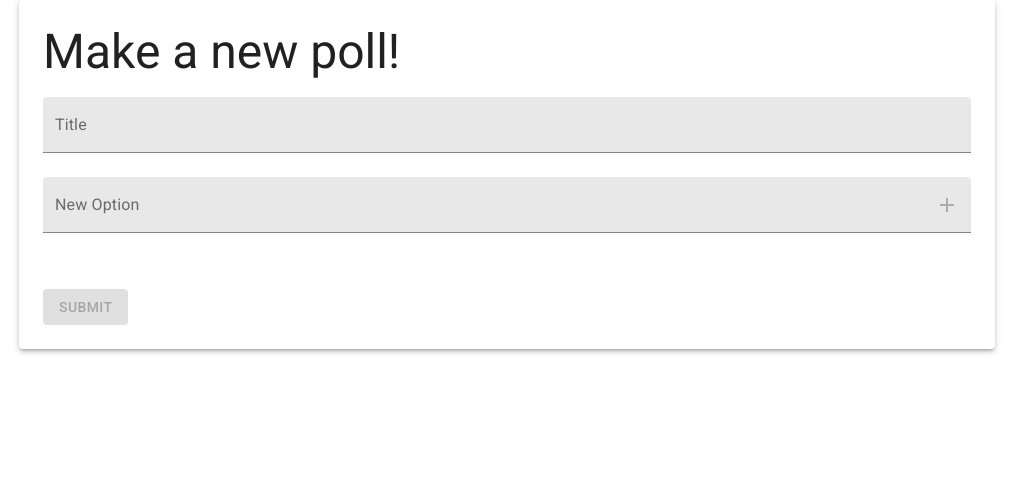
Test case: NewPoll tests › If option is present › Failed post submission results in failure alert
The image size is (1015, 483).
Type "test" into the field labelled "Title".
click(507, 125); type("test")  # box x1=43 y1=97 x2=971 y2=153
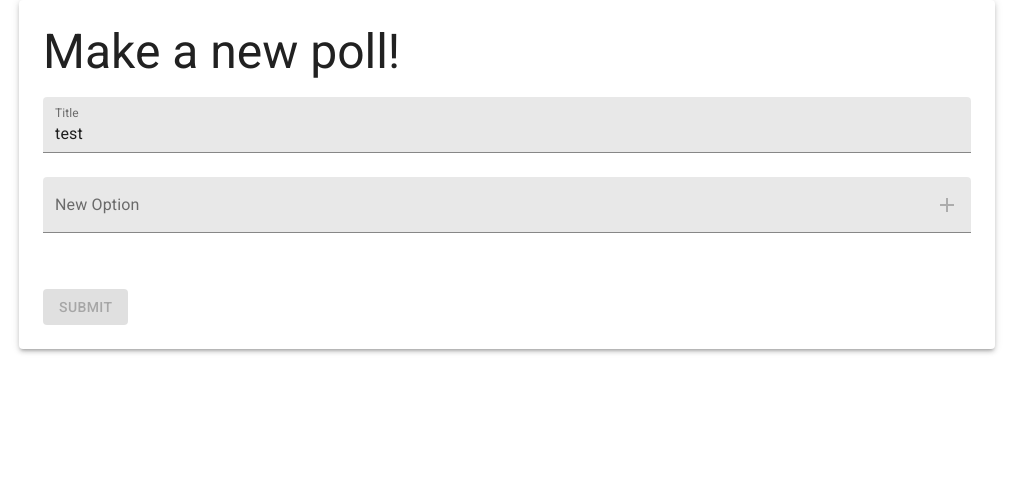
Type "test" into the field labelled "New Option".
click(479, 205); type("test")  # box x1=43 y1=177 x2=915 y2=233
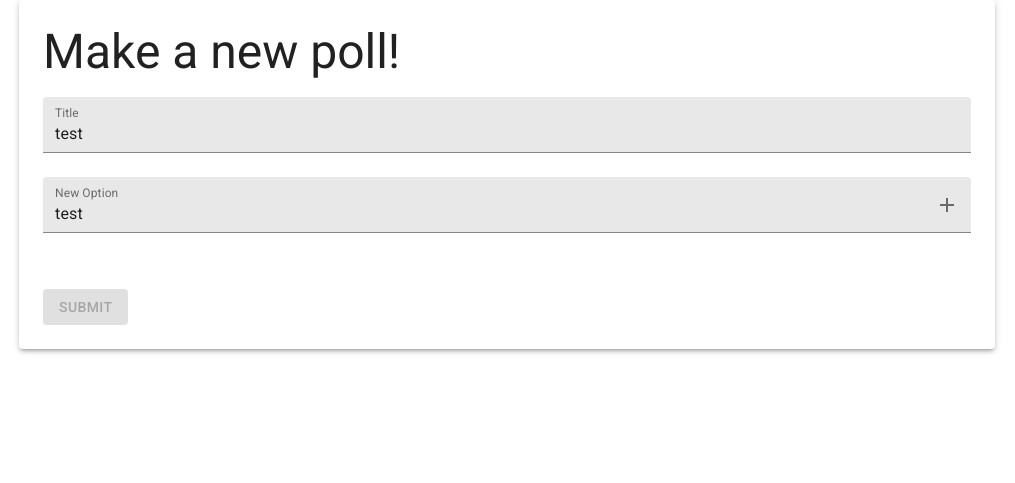
Click the button with test id "add-option-button".
click(947, 205)  # box x1=923 y1=181 x2=971 y2=229
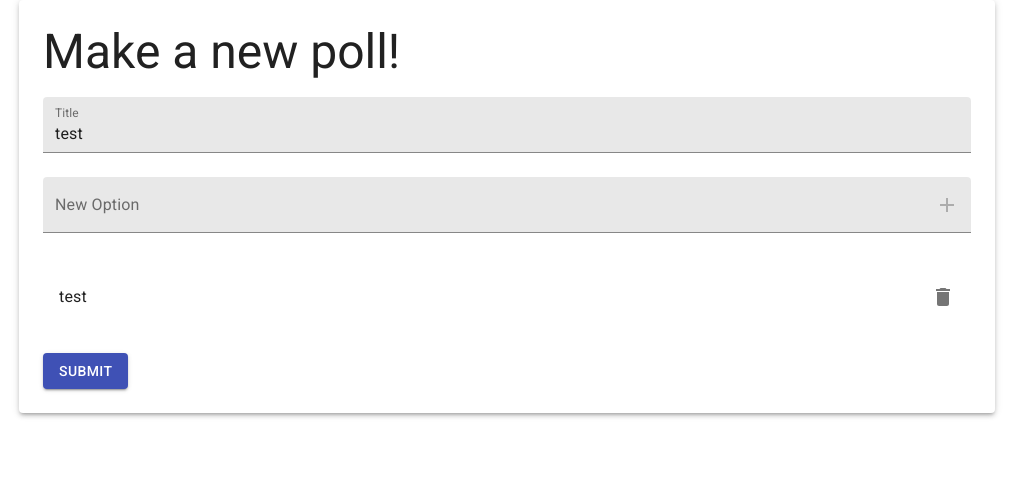
Click the button with test id "submit-button".
click(86, 371)  # box x1=43 y1=353 x2=128 y2=389
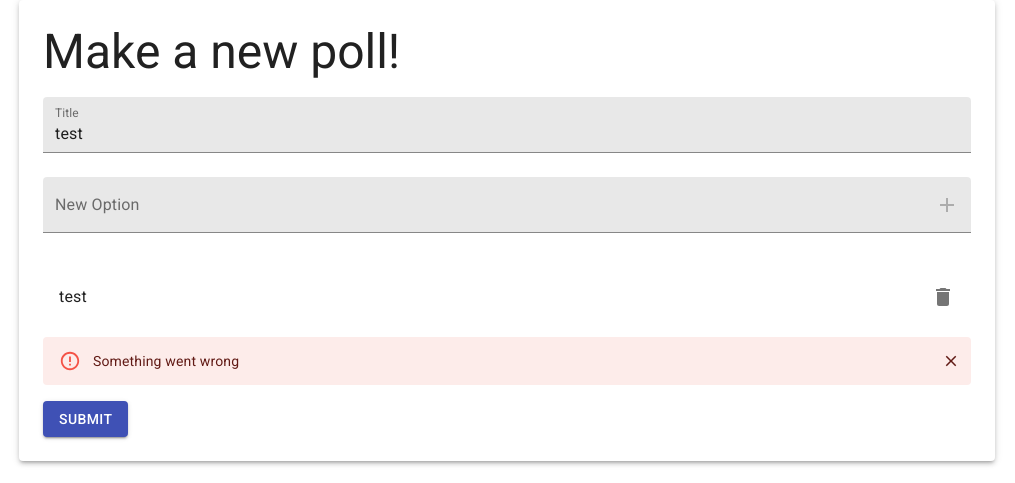
Expected: the text "Something went wrong" is shown, x1=93 y1=353 x2=239 y2=369
